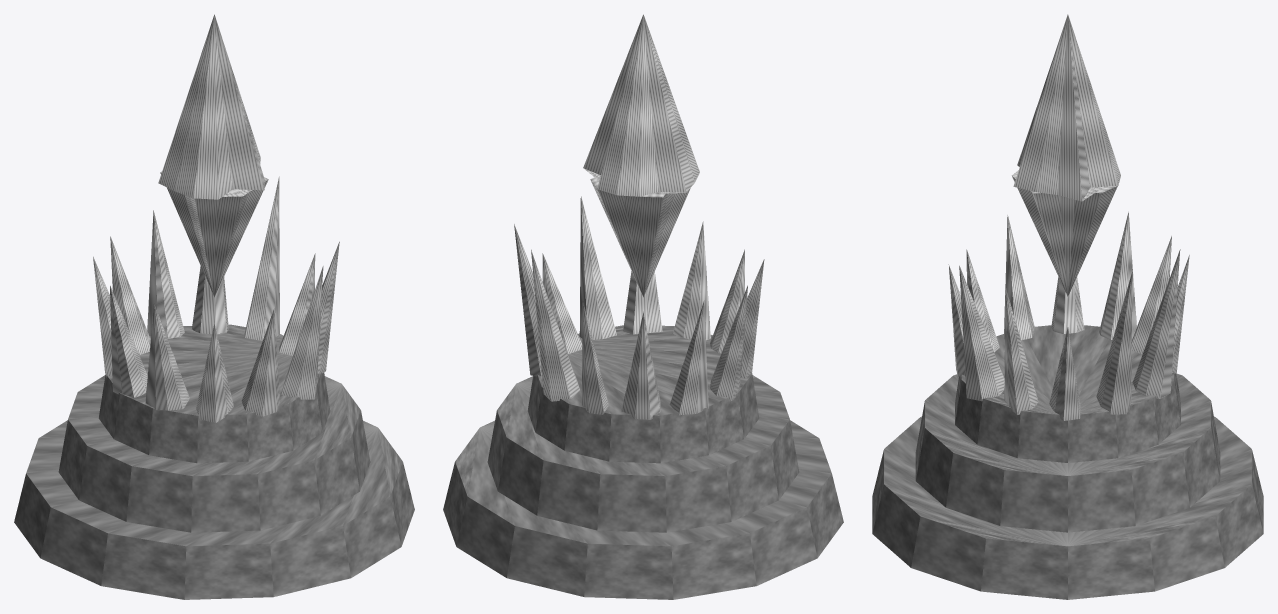
File: deep-fracture-traversal.glb
3 renders of one model, left to right at view 1: azimuth 30°, elevation 25°; view 2: azimuth 150°, elevation 25°; view 3: azimuth 270°, elevation 25°, orthographic.
Visible parts, largest first — view 1: TraversalPlinth, TraversalCore; view 2: TraversalPlinth, TraversalCore; view 3: TraversalPlinth, TraversalCore.
Boxes of the visible parts, bbox=[...] form: TraversalPlinth: bbox=[14, 324, 414, 599]; TraversalCore: bbox=[93, 14, 339, 423]; TraversalPlinth: bbox=[443, 325, 843, 599]; TraversalCore: bbox=[514, 14, 764, 419]; TraversalPlinth: bbox=[872, 325, 1263, 599]; TraversalCore: bbox=[948, 14, 1189, 420].
Size of the model in its own units: 4.5 by 6.2 by 4.39.
Materials: 2 (2 with a texture image).
